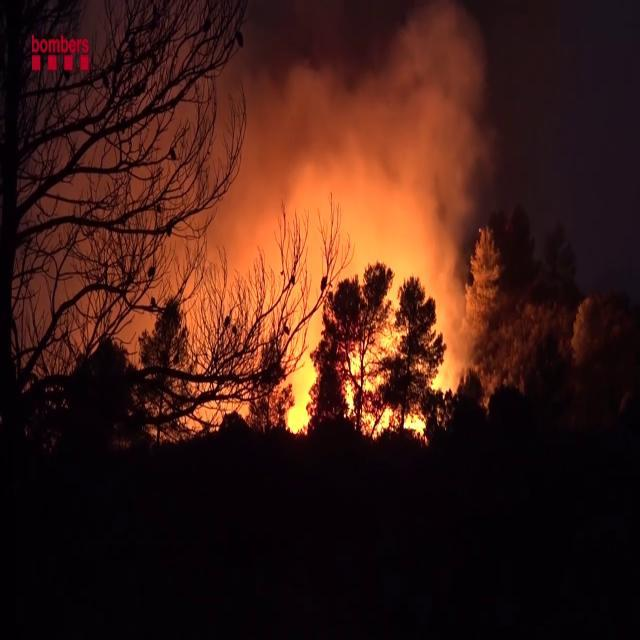Fire: (248, 192, 457, 444)
Smoke: (166, 1, 499, 258)
